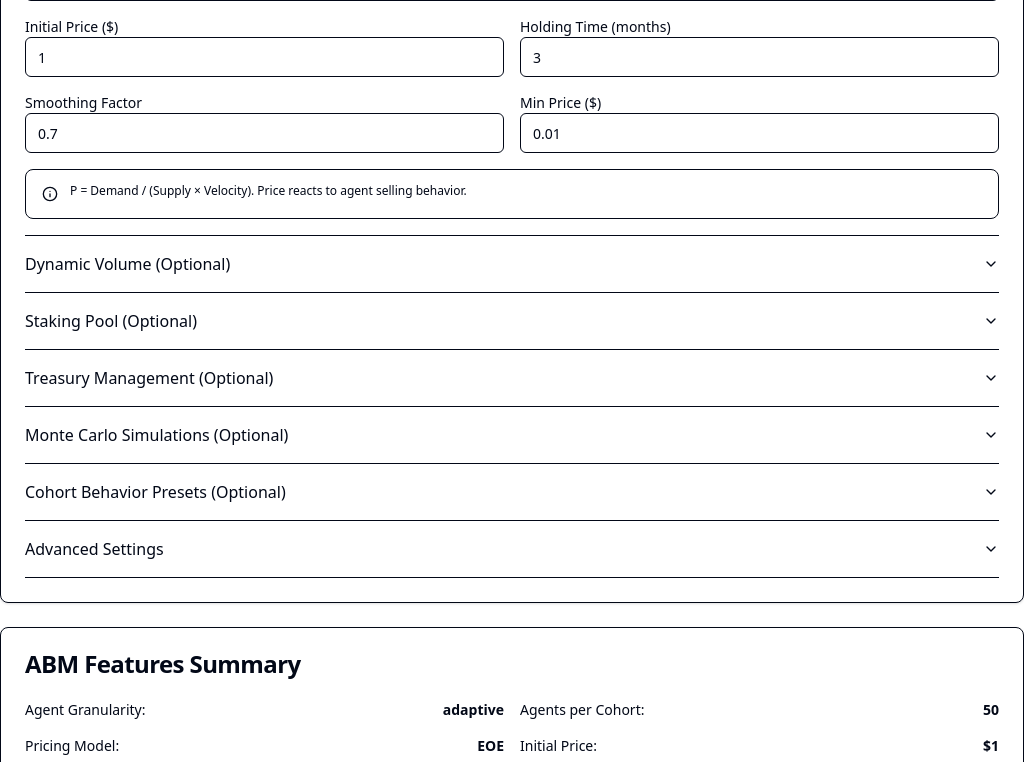
Test: ABM Configuration Form - User Interactions › Treasury Configuration › enables treasury and shows treasury fields
(page scrolled)
Click treasury accordion to expand it
Click the button "Treasury Management (Optional)" at (149, 378), box [25,350,999,406]
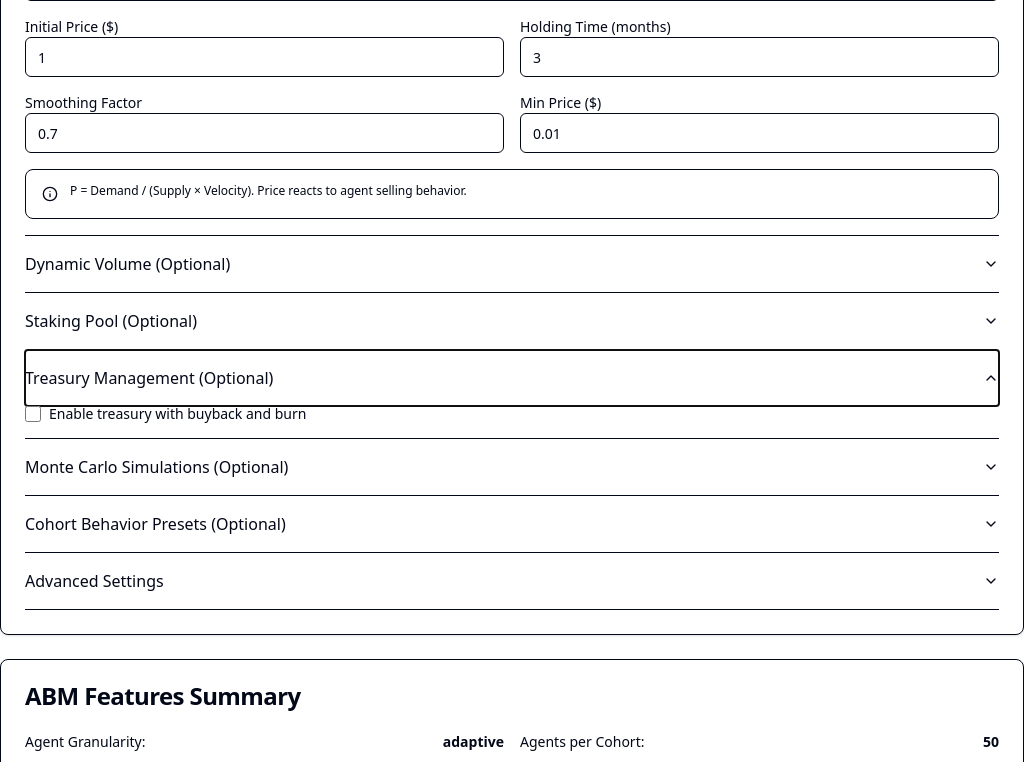
Click the checkbox labelled "Enable treasury with buyback and burn" at (33, 414), box [25,406,41,422]
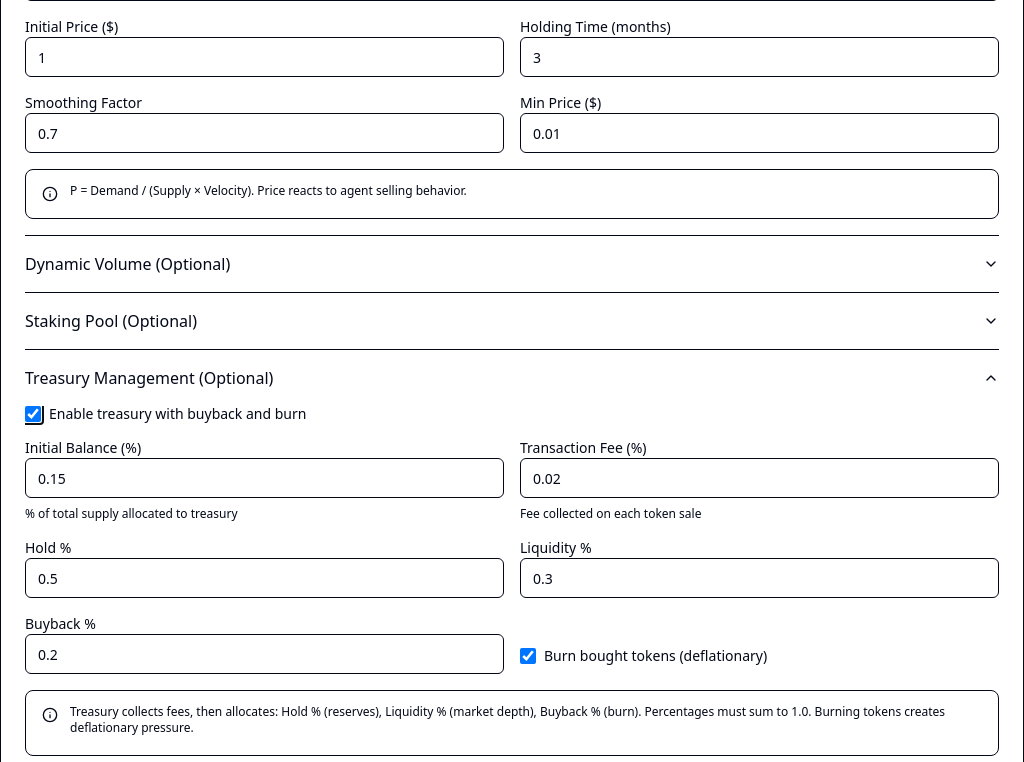
Expected: the number field labelled "Initial Balance (%)" is shown, [25,458,504,498]
Expected: the number field labelled "Transaction Fee (%)" is shown, [520,458,999,498]
Expected: the number field labelled "Hold %" is shown, [25,558,504,598]
